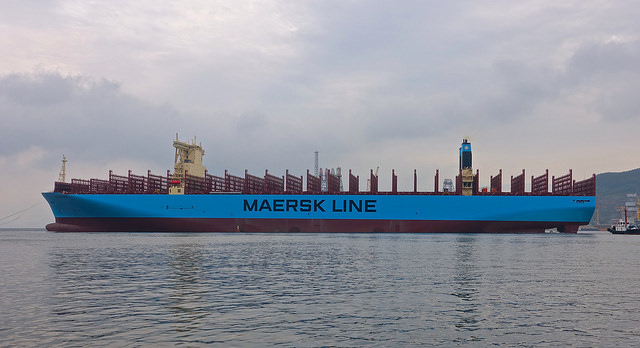container_ship: (40, 139, 596, 232)
tug_boat: (609, 207, 637, 236)
